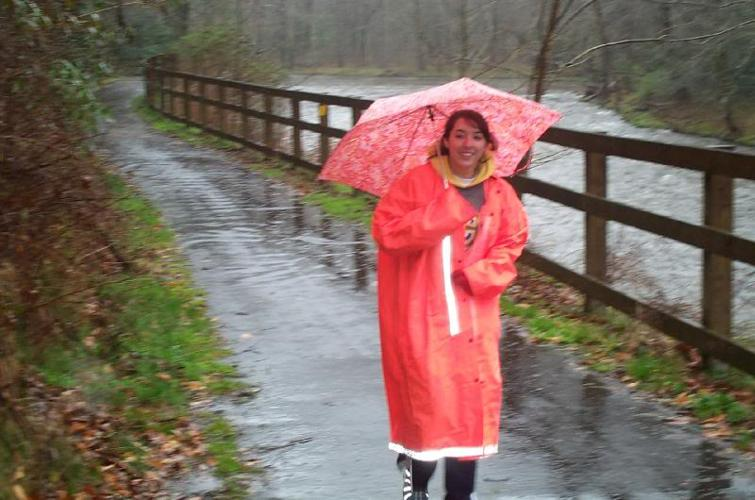person: (374, 109, 530, 500)
